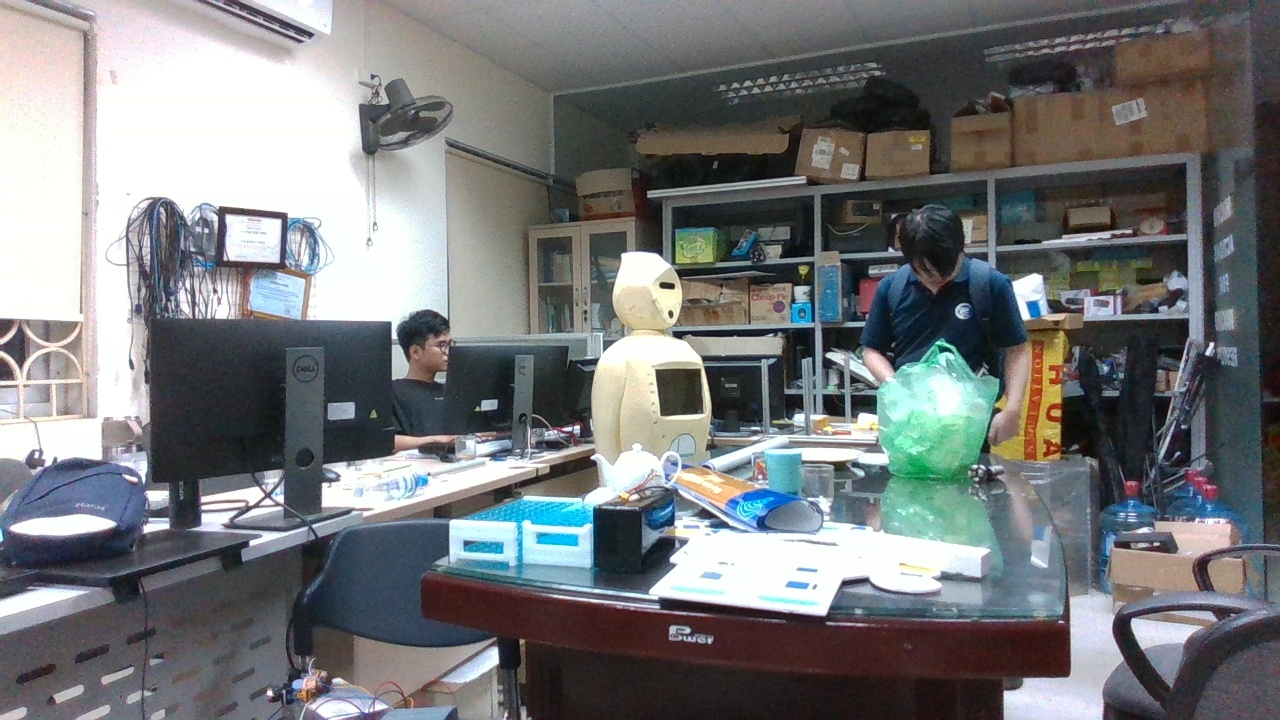person: (863, 211, 1018, 432)
